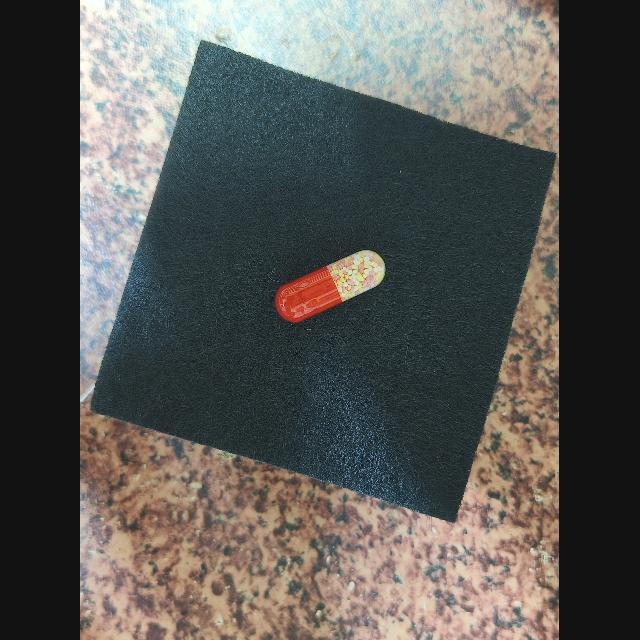Intact Capsule: (276, 250, 386, 323)
